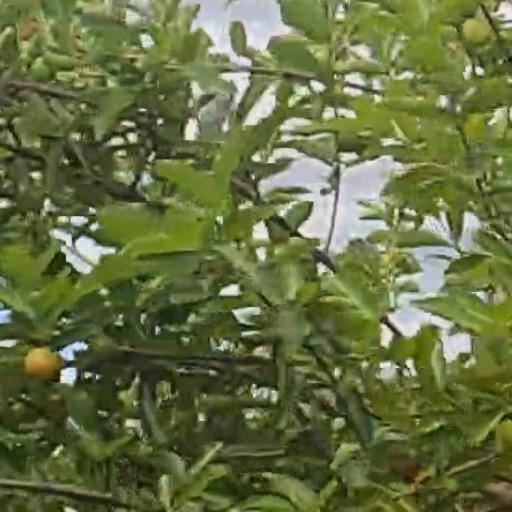acerola_vermelha: (24, 348, 61, 381)
